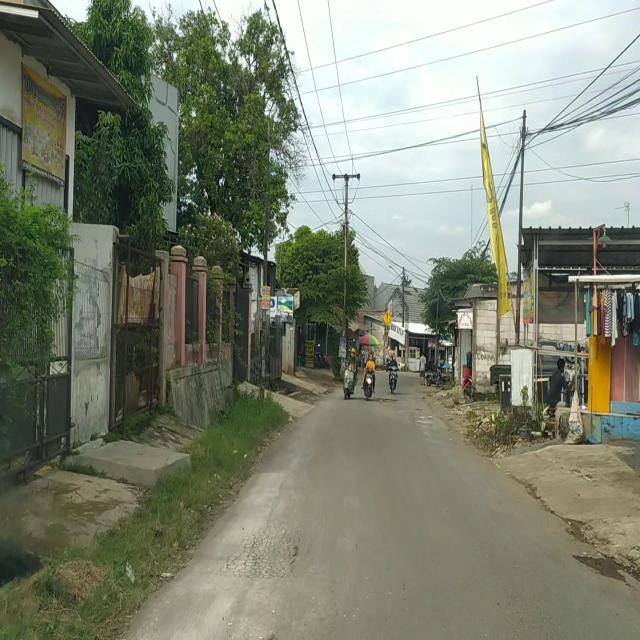Drain Hole: (214, 527, 302, 576)
